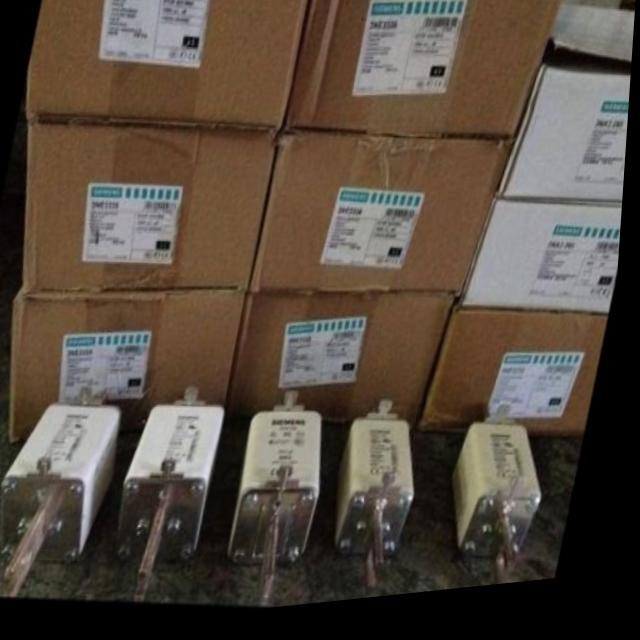box: (251, 136, 518, 308), (27, 121, 281, 297), (284, 0, 567, 150), (28, 0, 310, 136), (14, 289, 252, 444), (232, 299, 460, 438), (499, 18, 636, 215), (420, 314, 615, 450), (464, 210, 626, 329)
